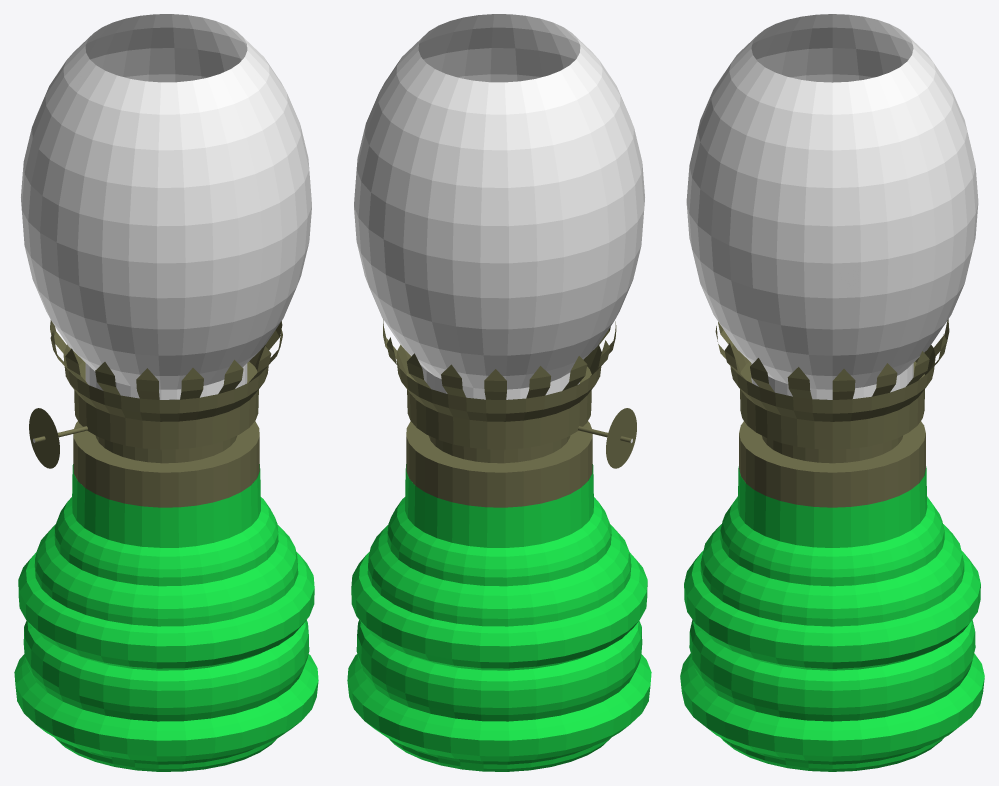
The model's file is lamp.fbx.
The picture shows the model from 3 angles, left to right: view 1: azimuth 30°, elevation 25°; view 2: azimuth 150°, elevation 25°; view 3: azimuth 270°, elevation 25°; orthographic projection.
Visible parts, largest first — view 1: Cylinder; view 2: Cylinder; view 3: Cylinder.
Part boxes in pixels (x1,y1,x2,y2): Cylinder: [14, 14, 318, 771]; Cylinder: [347, 14, 651, 771]; Cylinder: [680, 14, 984, 771].
Bounding box in the file's own units: 209 × 510 × 209.
